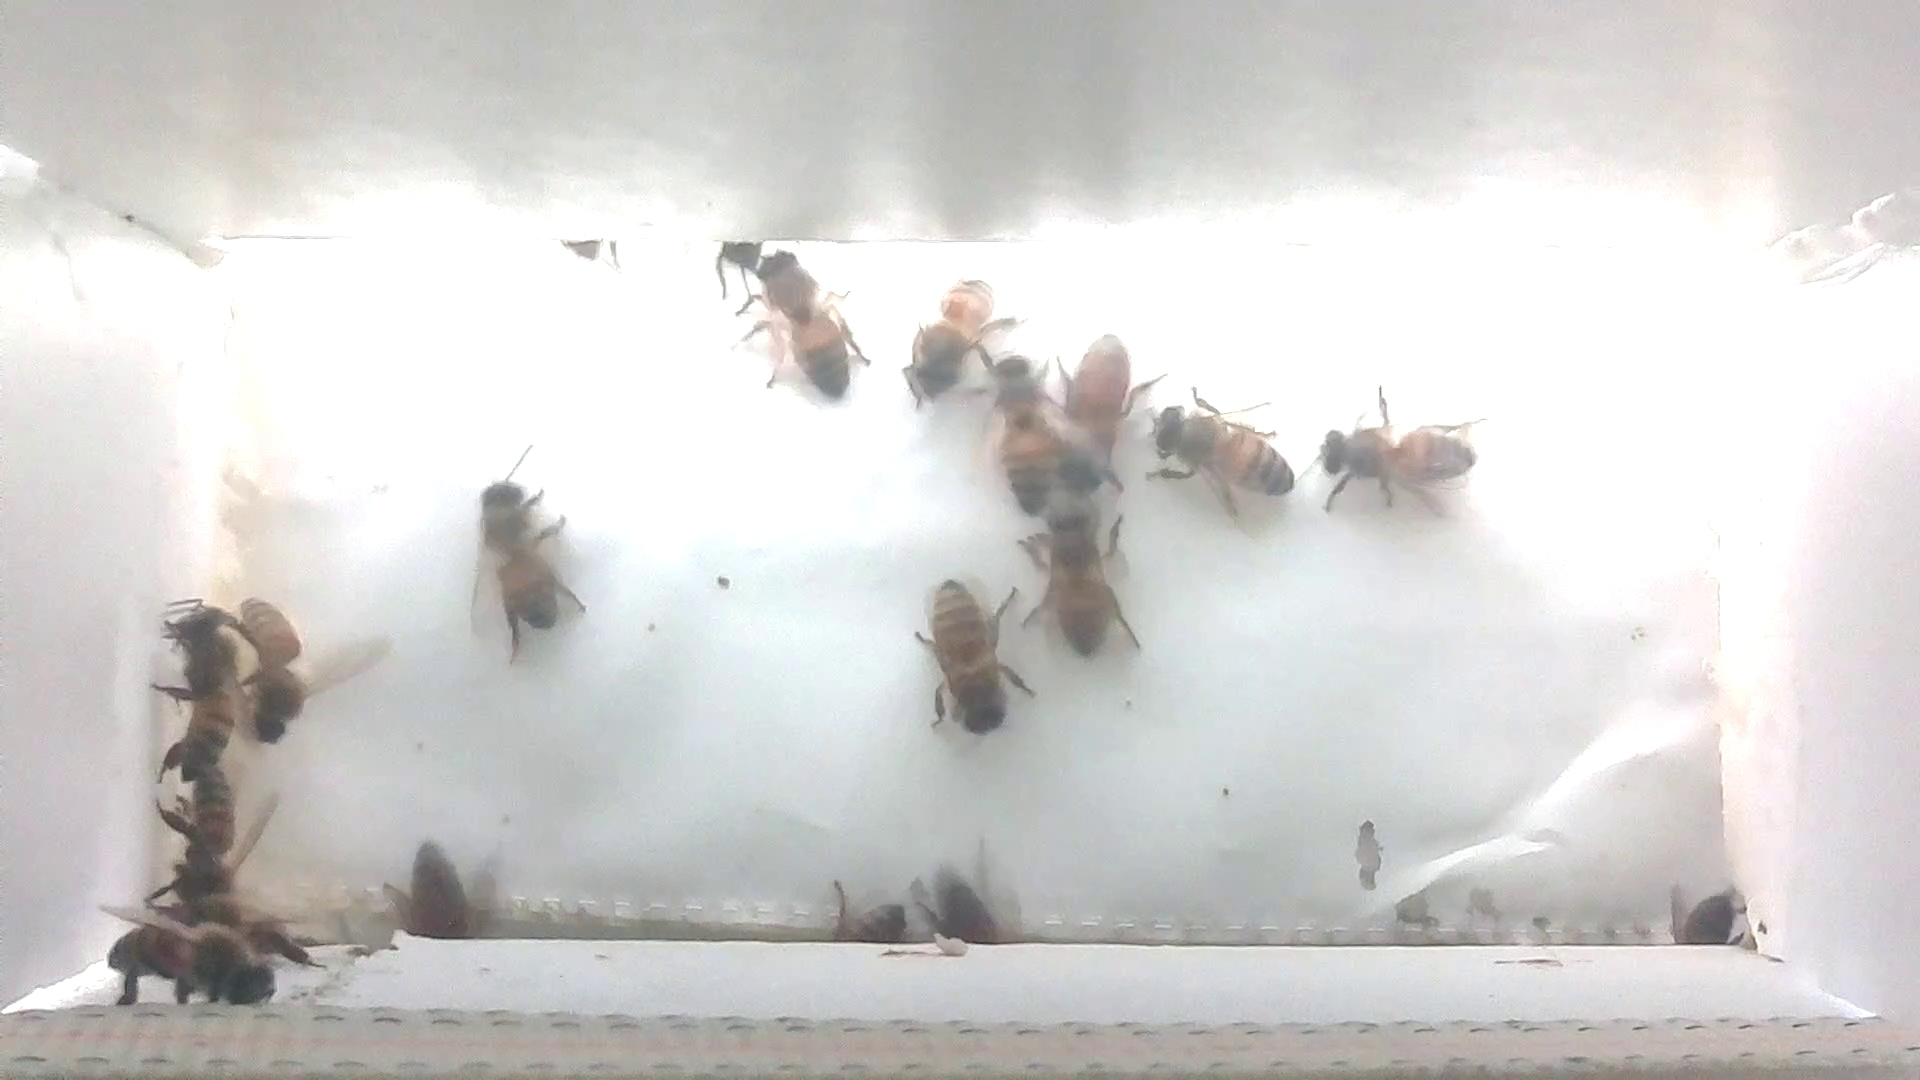bee: (1294, 369, 1499, 539), (451, 439, 593, 669), (1127, 373, 1303, 543), (1021, 485, 1163, 679), (210, 576, 363, 756), (90, 891, 301, 1021), (901, 556, 1046, 741), (733, 233, 874, 418), (1040, 313, 1145, 520), (887, 251, 1007, 411), (133, 758, 266, 898), (141, 593, 239, 783), (371, 829, 509, 949), (975, 345, 1068, 513), (909, 845, 1011, 960), (1638, 870, 1743, 956), (808, 881, 909, 956)
